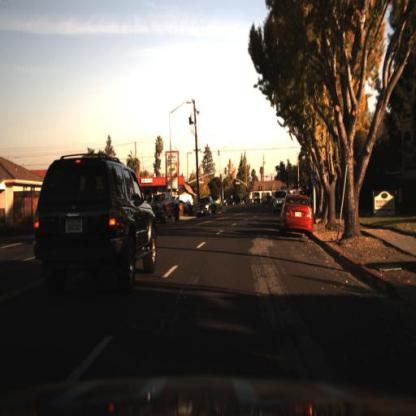car: (34, 141, 157, 308), (279, 190, 319, 235), (148, 195, 182, 226), (195, 193, 220, 223), (272, 187, 290, 218)
